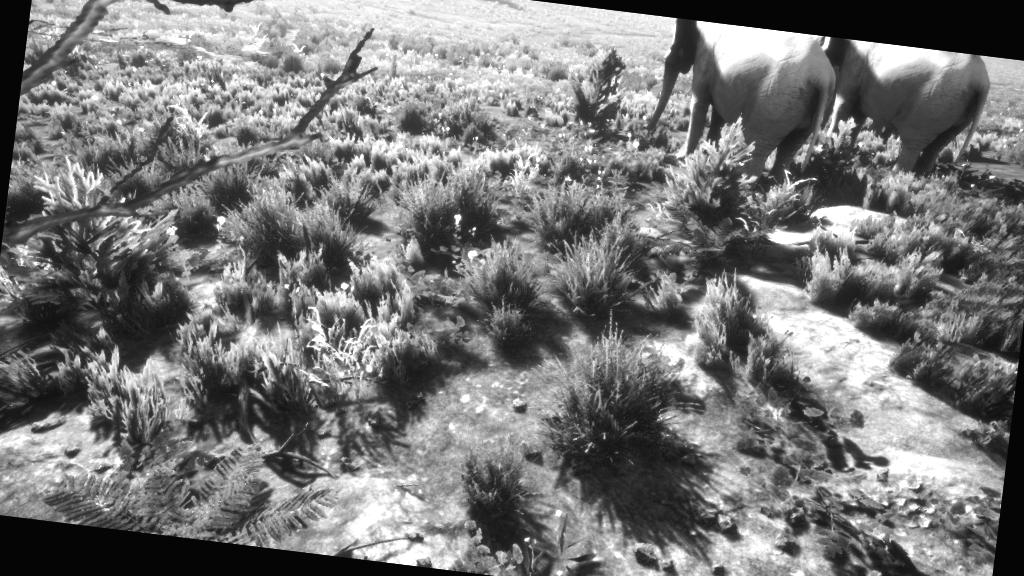elephant: (635, 16, 850, 212), (784, 34, 1010, 193)
